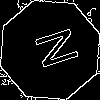N: (25, 25, 80, 74)
